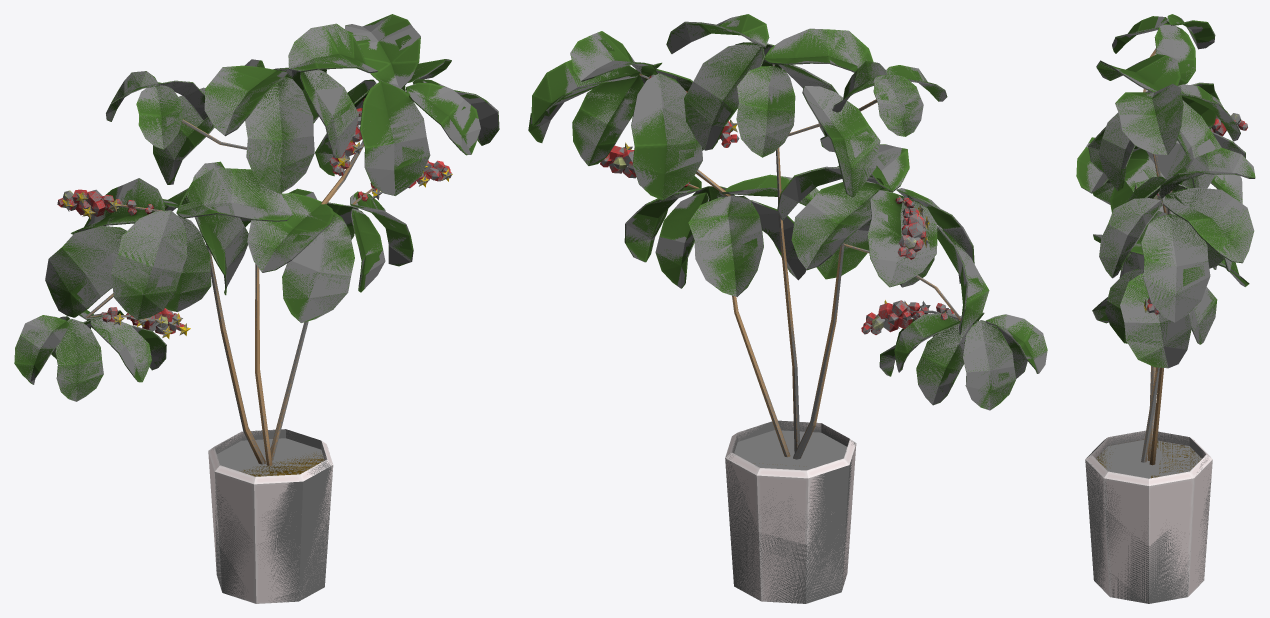
File: CoffeePlant.fbx
3 renders of one model, left to right at view 1: azimuth 30°, elevation 25°; view 2: azimuth 150°, elevation 25°; view 3: azimuth 270°, elevation 25°, orthographic. The views are drawn at different scales.
Parts seen in each view (by area): view 1: Null_1, pCylinder3_18, CoffePlant_mehs; view 2: Null_1, pCylinder3_18, CoffePlant_mehs; view 3: Null_1, pCylinder3_18, CoffePlant_mehs.
Part boxes in pixels (<box>): Null_1: <box>14,16,499,602</box>; pCylinder3_18: <box>14,14,499,603</box>; CoffePlant_mehs: <box>14,16,499,586</box>; Null_1: <box>530,16,1047,603</box>; pCylinder3_18: <box>530,15,1043,603</box>; CoffePlant_mehs: <box>528,14,1047,600</box>; Null_1: <box>1081,16,1254,603</box>; pCylinder3_18: <box>1081,15,1253,599</box>; CoffePlant_mehs: <box>1076,14,1255,602</box>.
Bounding box in the file's own units: 169 × 180 × 56.15.
3 materials, 1 textured.
